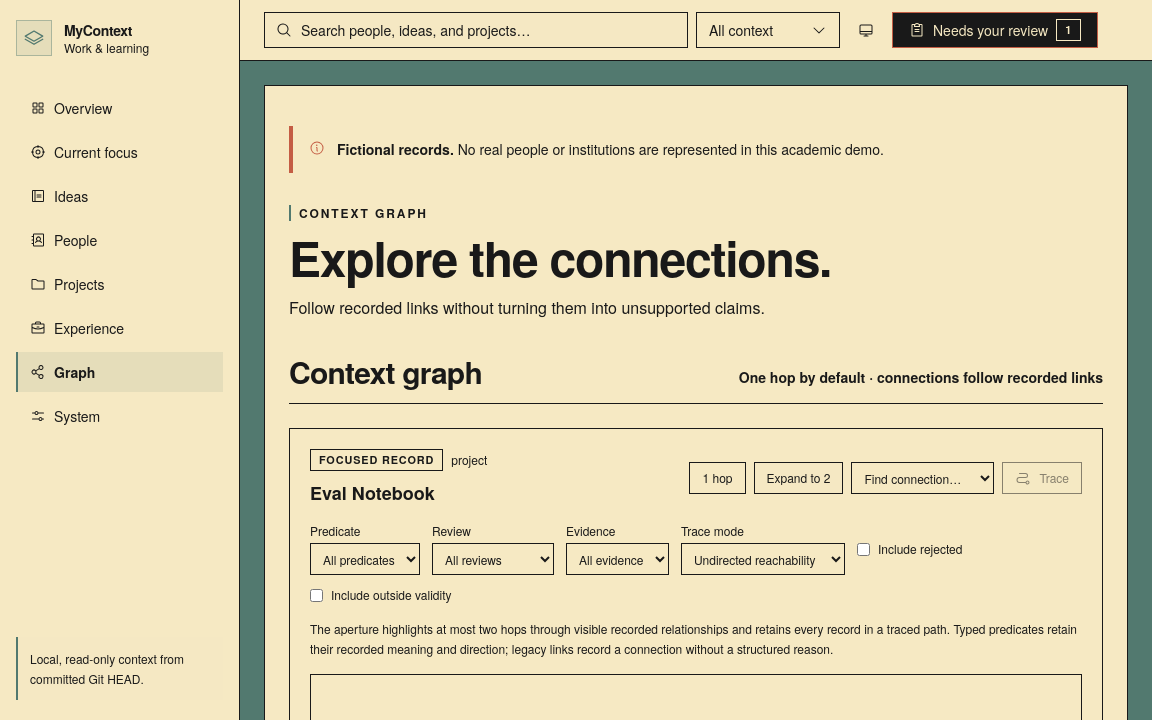
it: relationship graph › expands its focus and traces reachability without inventing semantics
Click the button "Expand to 2" at (798, 478), box [754,462,843,494]
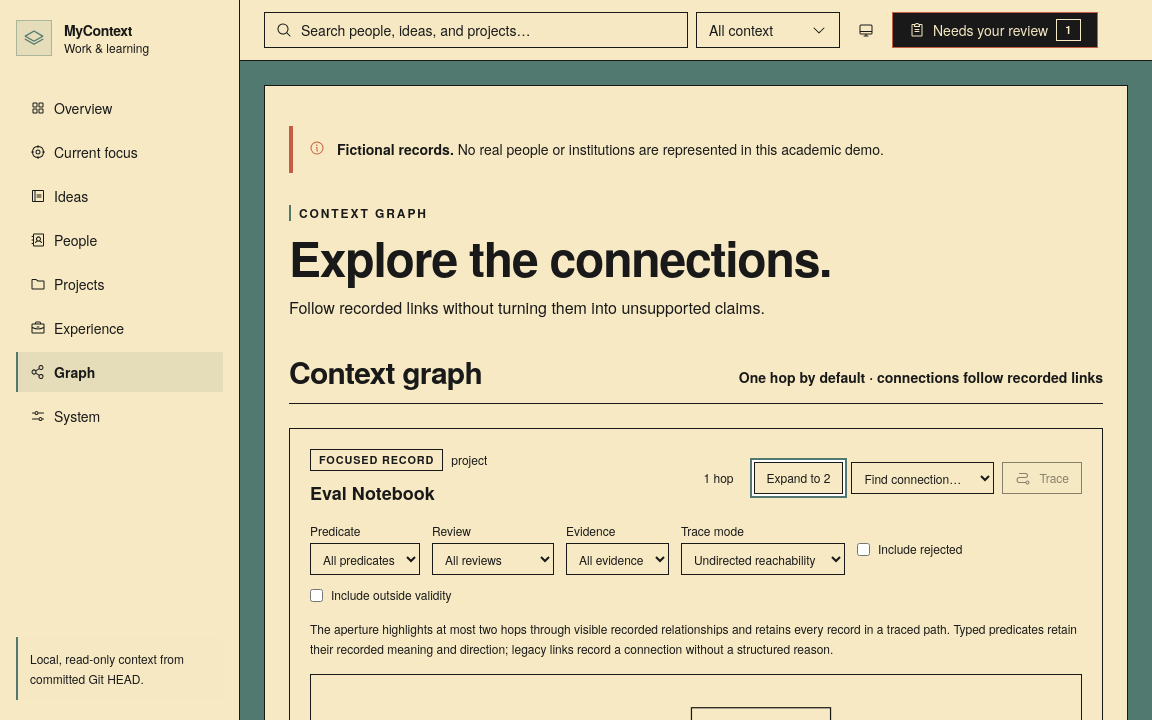
Expected: the text "at most two hops" is shown, [310,620,1077,657]
Select "Rhea Sen" in the dropdown named "Connection target" at (923, 478), box [852,462,994,494]
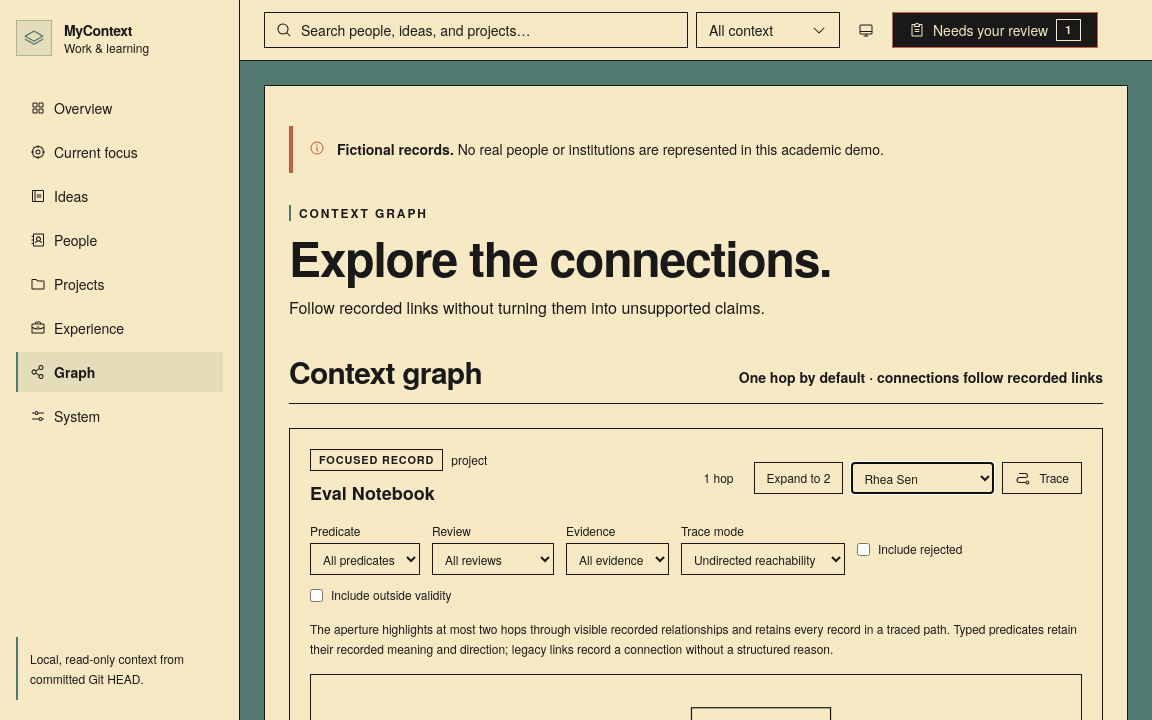
Click the button "Trace" at (1042, 478), box [1002,462,1082,494]
(page scrolled)
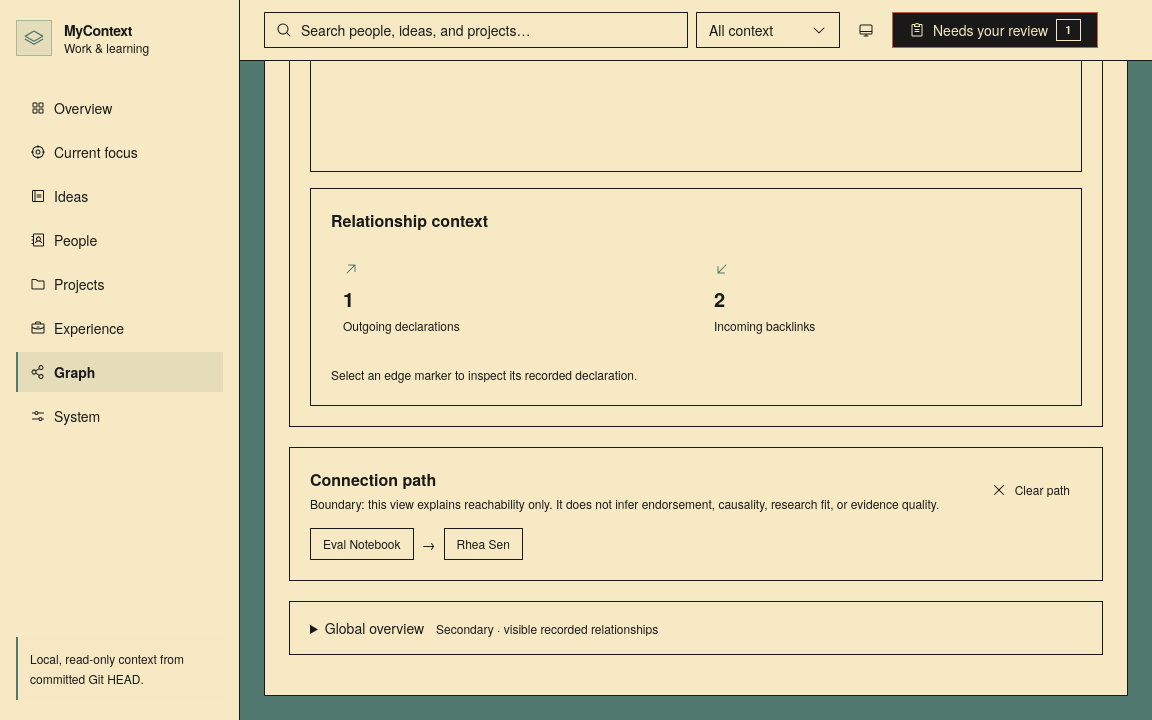
Now the text "reachability only" is shown, box [310,495,939,512]
Now the button "Clear path" is shown, box [979,474,1082,506]
